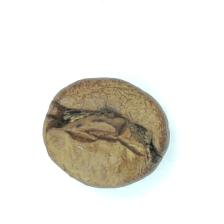NG: (51, 84, 161, 182)
